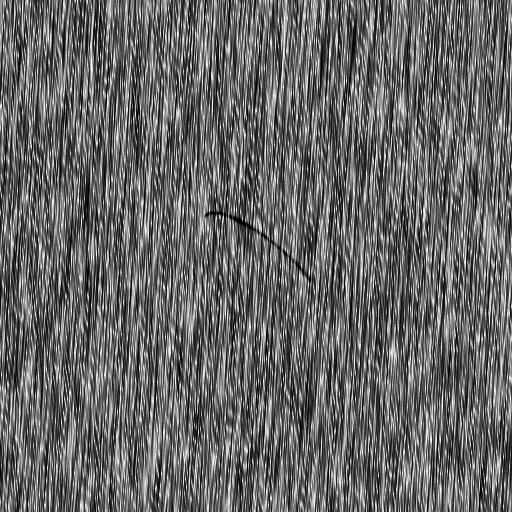DefectTypeC: (205, 207, 315, 282)
